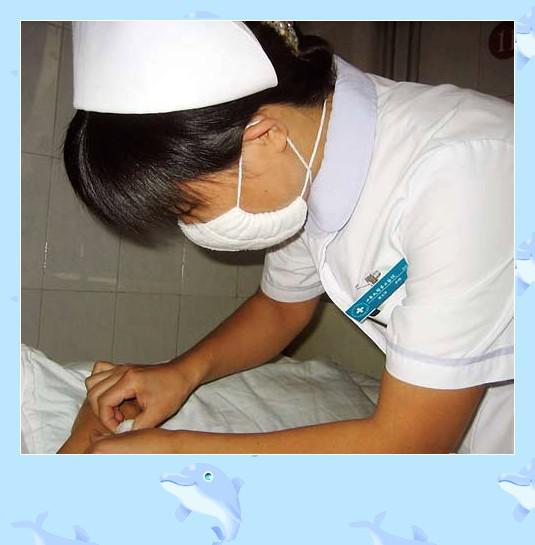OK: (161, 111, 312, 262)
